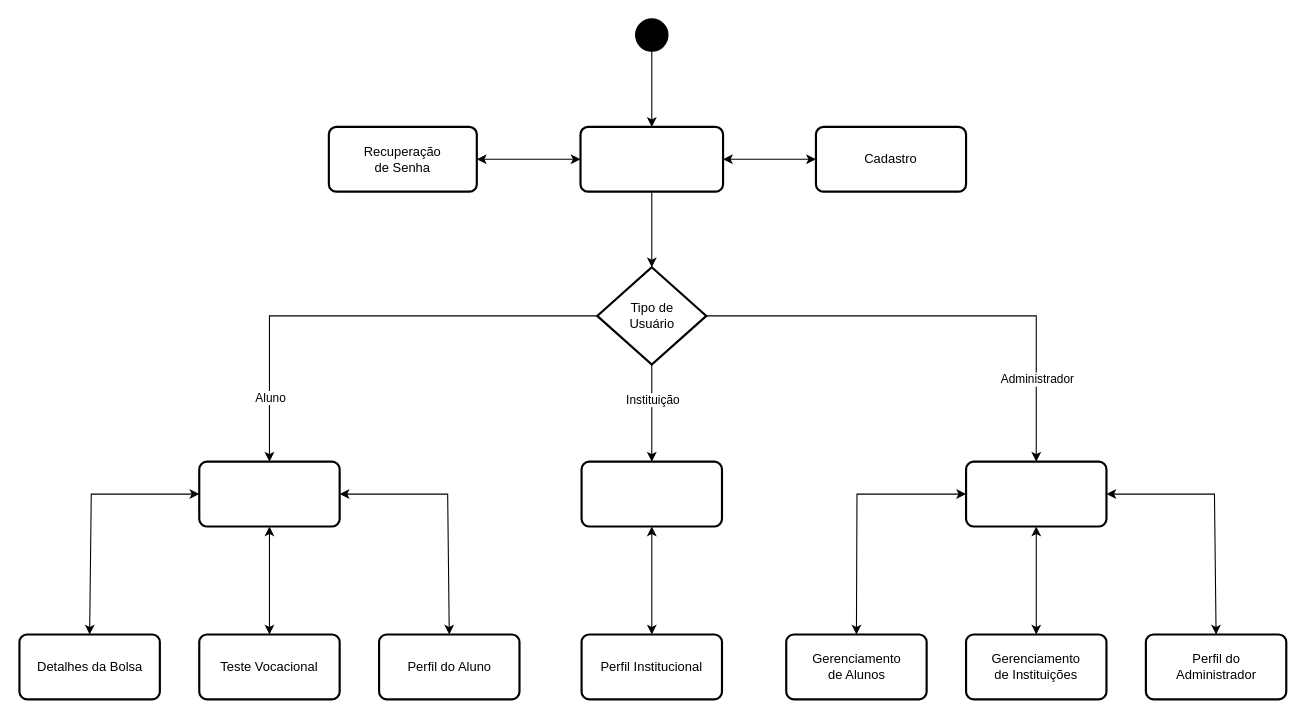
The diagram is 1306 pixels wide and 719 high, and some of its shapes have lost their labels. Here are the shapes that lost their labels. From the top down, the centre of each, then its label:
At point (651, 158): "Login".
At point (269, 493): "Tela Inicial".
At point (651, 493): "Gerenciar Bolsas".
At point (1035, 493): "Dashboard".
